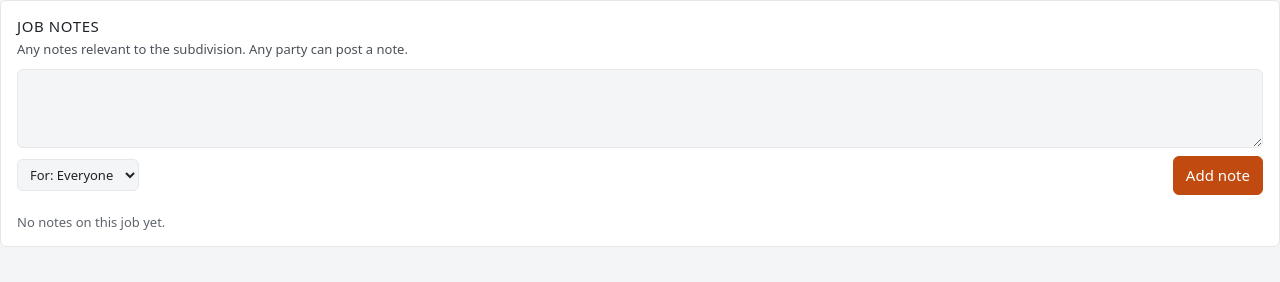
Scenario: JobNotes › keeps the text and shows the request id when saving fails
Type "Keep me" into the text box named "New job note". click: (640, 108)
box: [17, 69, 1263, 148]
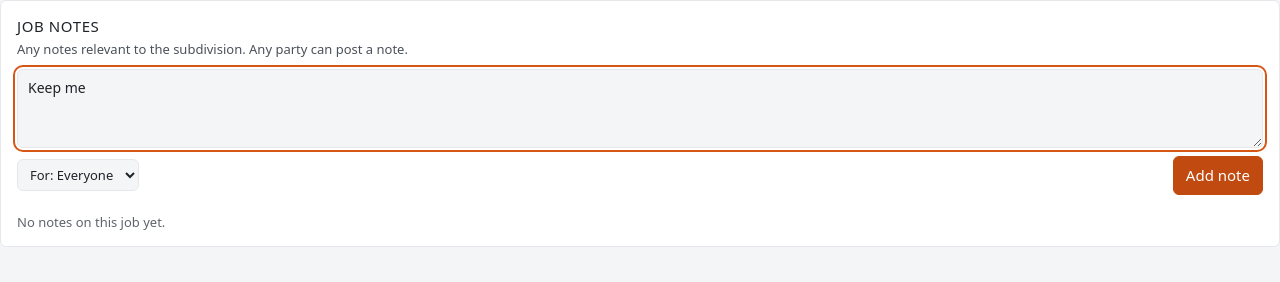
Click the button "Add note". click: (1218, 175)
box: [1173, 156, 1263, 194]
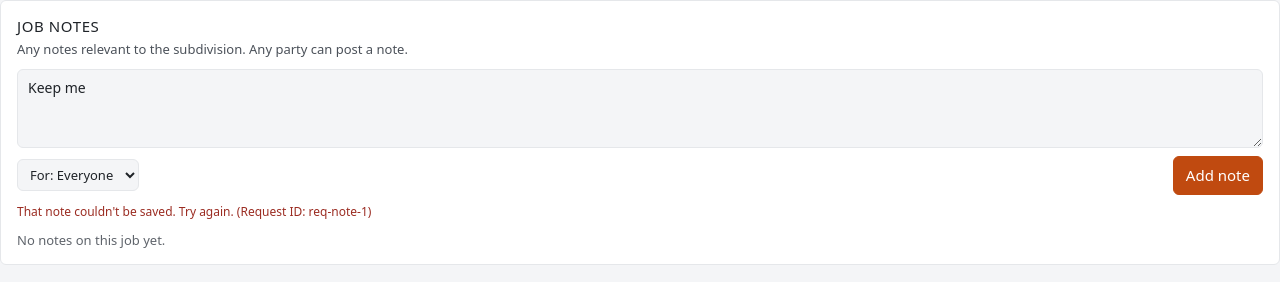
Result: the message reads "That note couldn't be saved. Try again. (Request ID: req-note-1)" at [17, 202, 371, 220]
